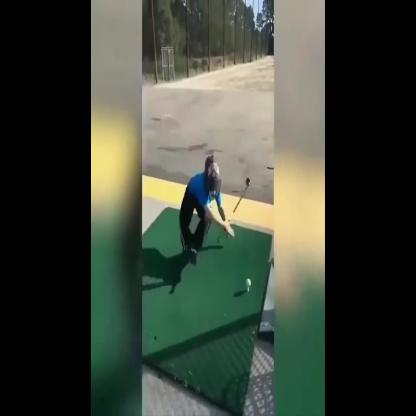Fall_Down: (176, 147, 238, 271)
